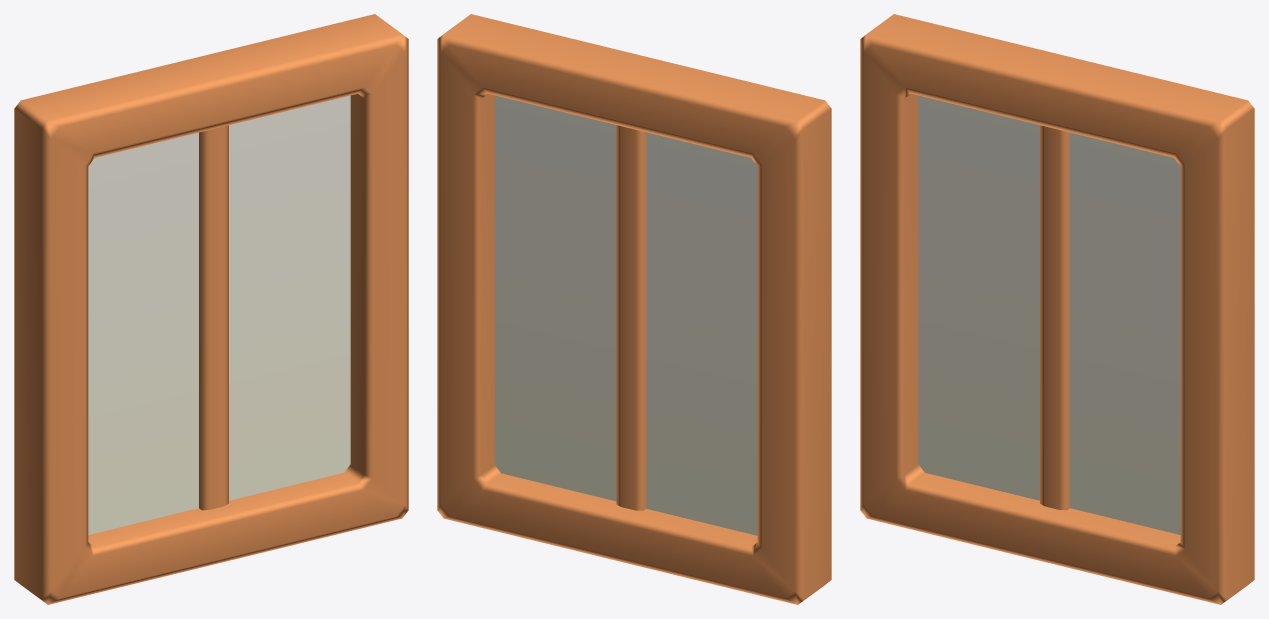
Rendered from Furniture_WallDecoration_14.fbx.
The picture shows the model from 3 angles, left to right: view 1: azimuth 30°, elevation 25°; view 2: azimuth 150°, elevation 25°; view 3: azimuth 330°, elevation 25°; orthographic projection.
Parts seen in each view (by area): view 1: Furniture_WallDecoration_14; view 2: Furniture_WallDecoration_14; view 3: Furniture_WallDecoration_14.
Boxes of the visible parts, bbox=[...] form: Furniture_WallDecoration_14: bbox=[14, 14, 408, 604]; Furniture_WallDecoration_14: bbox=[437, 14, 831, 604]; Furniture_WallDecoration_14: bbox=[860, 14, 1254, 604].
Bounding box in the file's own units: 146 × 184 × 22.92.
